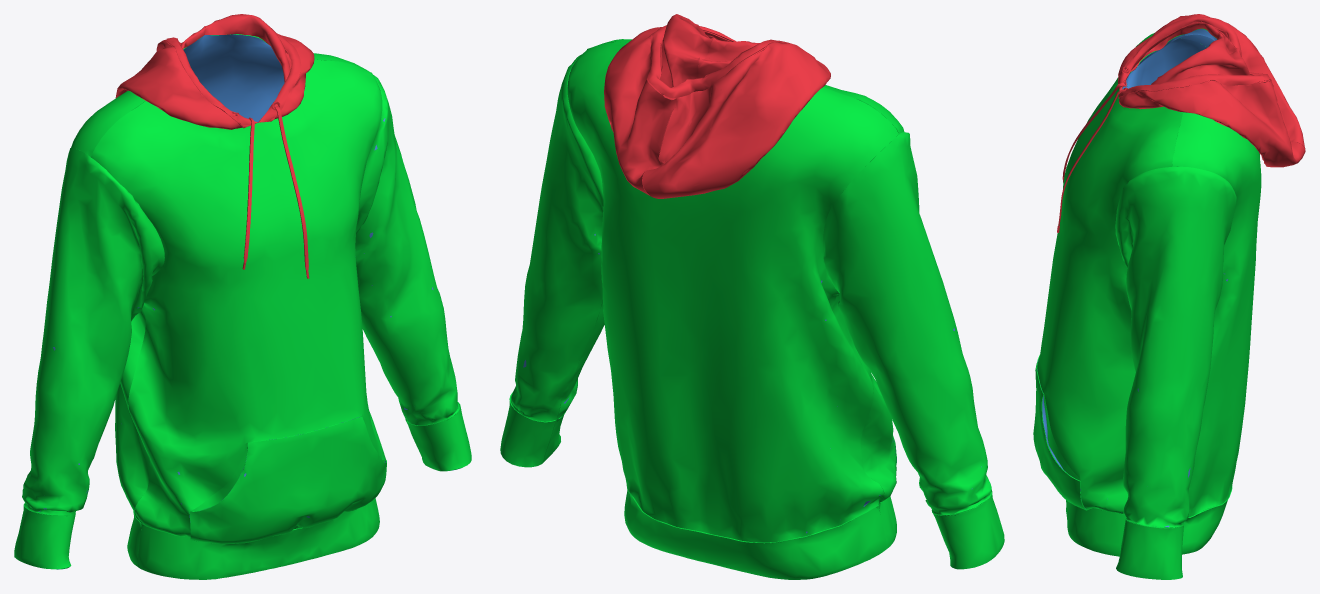
The model's file is hoodie.glb.
3 views of the same model, side by side, from view 1: azimuth 30°, elevation 25°; view 2: azimuth 150°, elevation 25°; view 3: azimuth 270°, elevation 25° (orthographic). The views are drawn at different scales.
Visible parts, largest first — view 1: model.002; view 2: model.002; view 3: model.002.
Boxes of the visible parts, <box> form: model.002: <box>14,14,471,579</box>; model.002: <box>500,14,1004,579</box>; model.002: <box>1033,14,1305,579</box>.
Bounding box in the file's own units: 0.7163 × 0.7595 × 0.3877.
